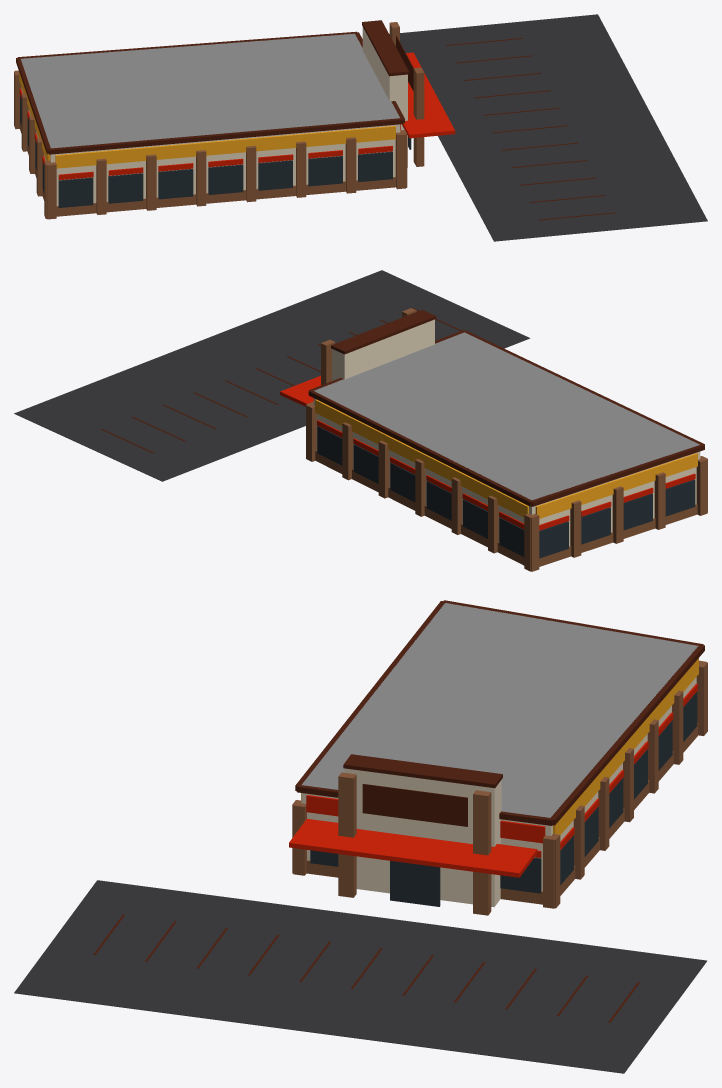
The model's file is m_burgerking.glb.
3 renders of one model, top to bottom at view 1: azimuth 30°, elevation 25°; view 2: azimuth 150°, elevation 25°; view 3: azimuth 270°, elevation 25°, orthographic. The views are drawn at different scales.
Parts seen in each view (by area): view 1: m_burgerking_lod0; view 2: m_burgerking_lod0; view 3: m_burgerking_lod0.
Boxes of the visible parts, bbox=[...] form: m_burgerking_lod0: bbox=[14, 14, 707, 241]; m_burgerking_lod0: bbox=[14, 270, 707, 571]; m_burgerking_lod0: bbox=[14, 600, 707, 1073].
Size of what is drawn, in the model's own units: 45.96 by 6.8 by 34.74.
